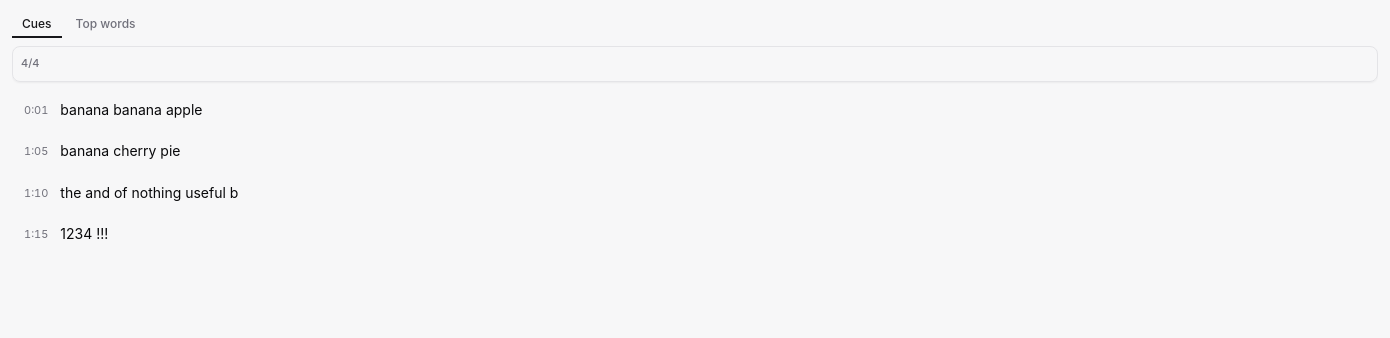
TranscriptPanel › top words › limits the ranking via the Top-N select
Click the button "Top words" at (106, 25), box [66,12,146,38]
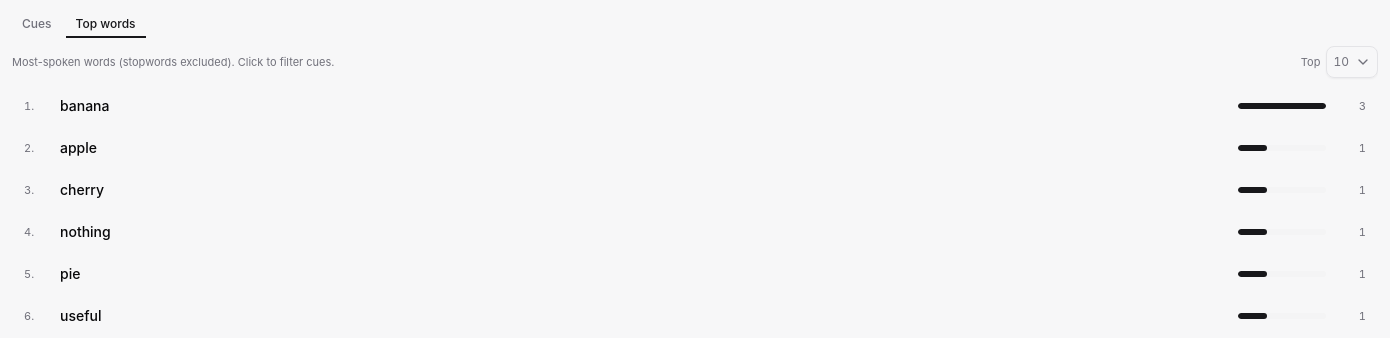
Click the button "10" at (1352, 62), box [1326,46,1378,78]
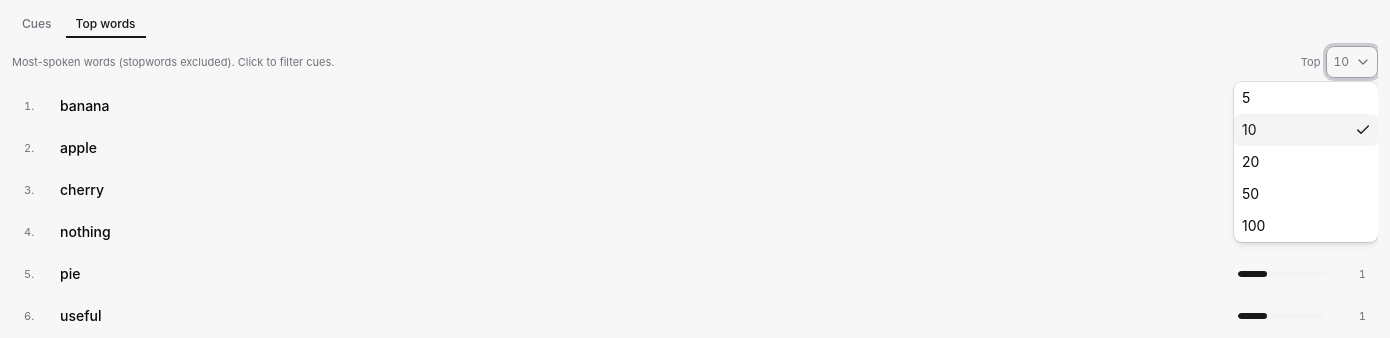
expect the option "5" is shown: met
Click the option "5" at (1246, 98), box [1242,89,1250,106]
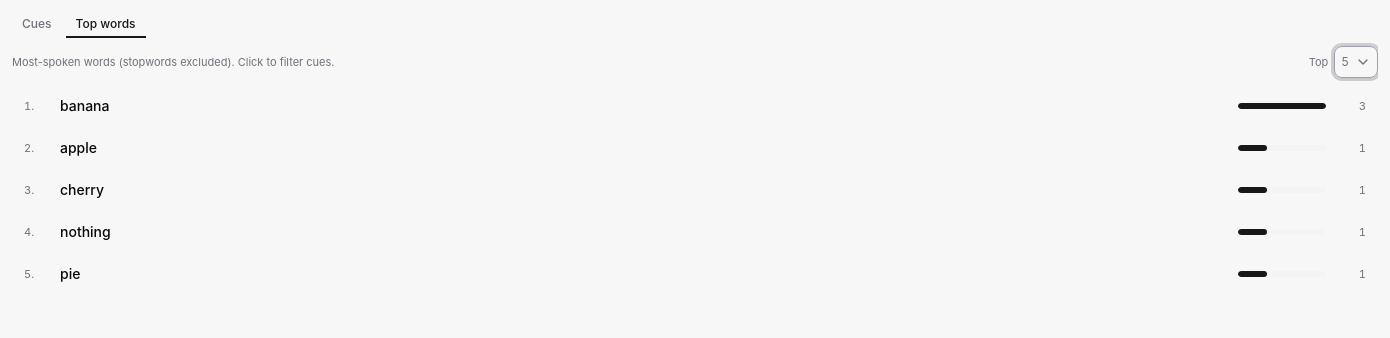
expect the button "useful" no longer shows "useful": met
